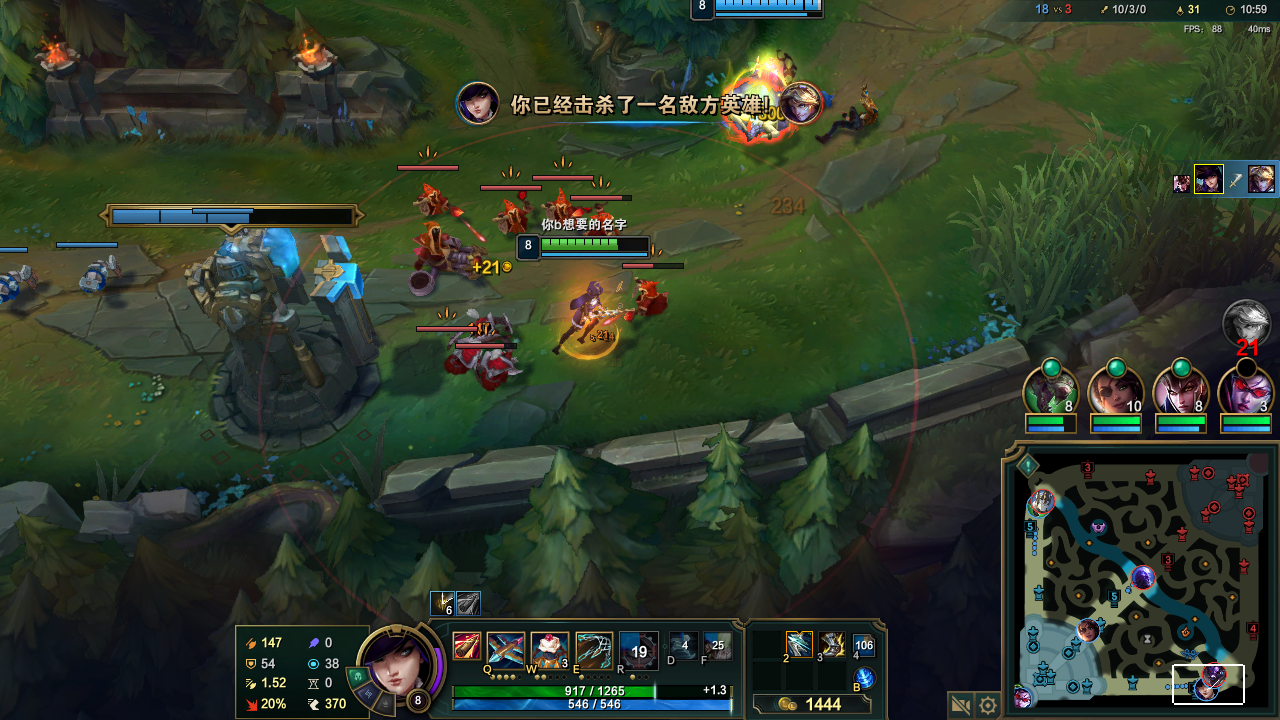DFXB: (410, 180, 454, 211), (631, 282, 666, 318), (447, 340, 481, 376), (588, 202, 611, 240), (479, 349, 508, 379), (545, 191, 571, 223), (495, 203, 520, 228)
WFXB: (81, 257, 126, 293), (5, 265, 25, 293)
